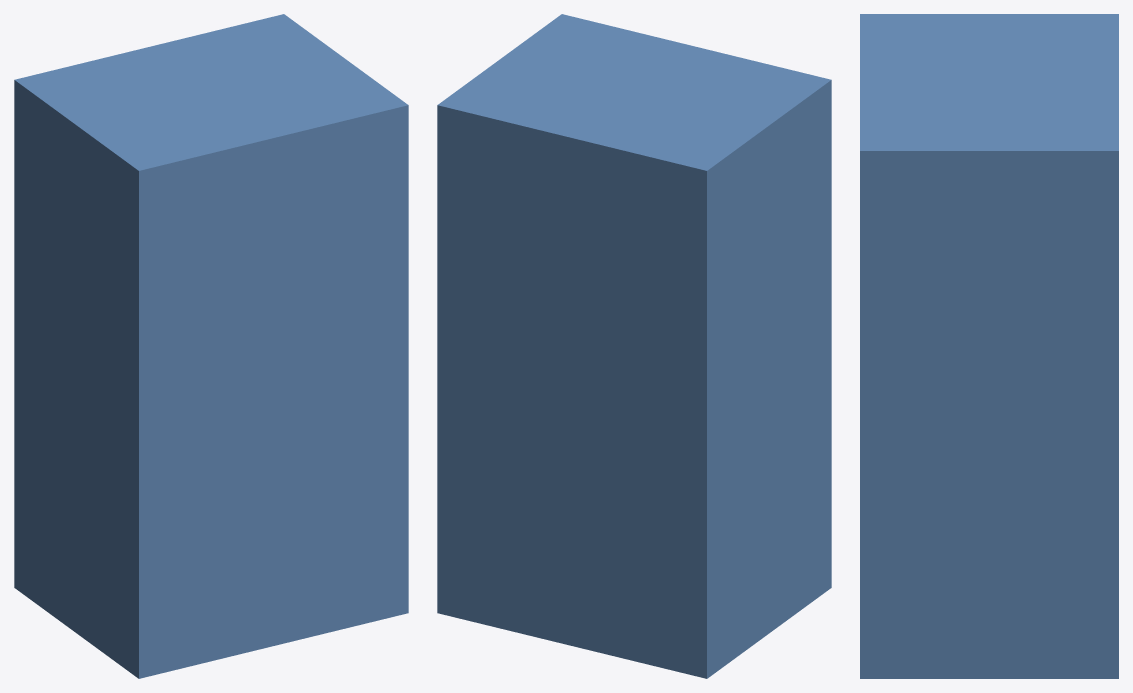
File: postal_letterbox.glb
3 views of the same model, side by side, from view 1: azimuth 30°, elevation 25°; view 2: azimuth 150°, elevation 25°; view 3: azimuth 270°, elevation 25° (orthographic). The views are drawn at different scales.
Visible parts, largest first — view 1: box; view 2: box; view 3: box.
Boxes of the visible parts, box(x1,y1,x2,y2) form: box: box(14, 14, 408, 678); box: box(437, 14, 831, 678); box: box(860, 14, 1118, 678).
Bounding box in the file's own units: 1 × 1.8 × 0.7998.
